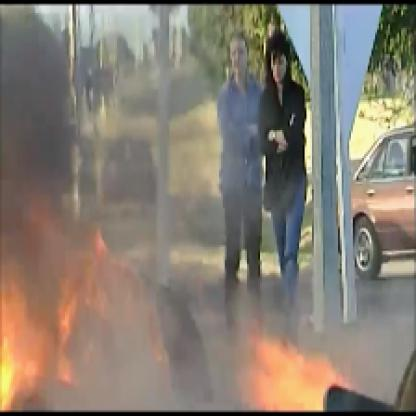Fire: (2, 217, 351, 414)
